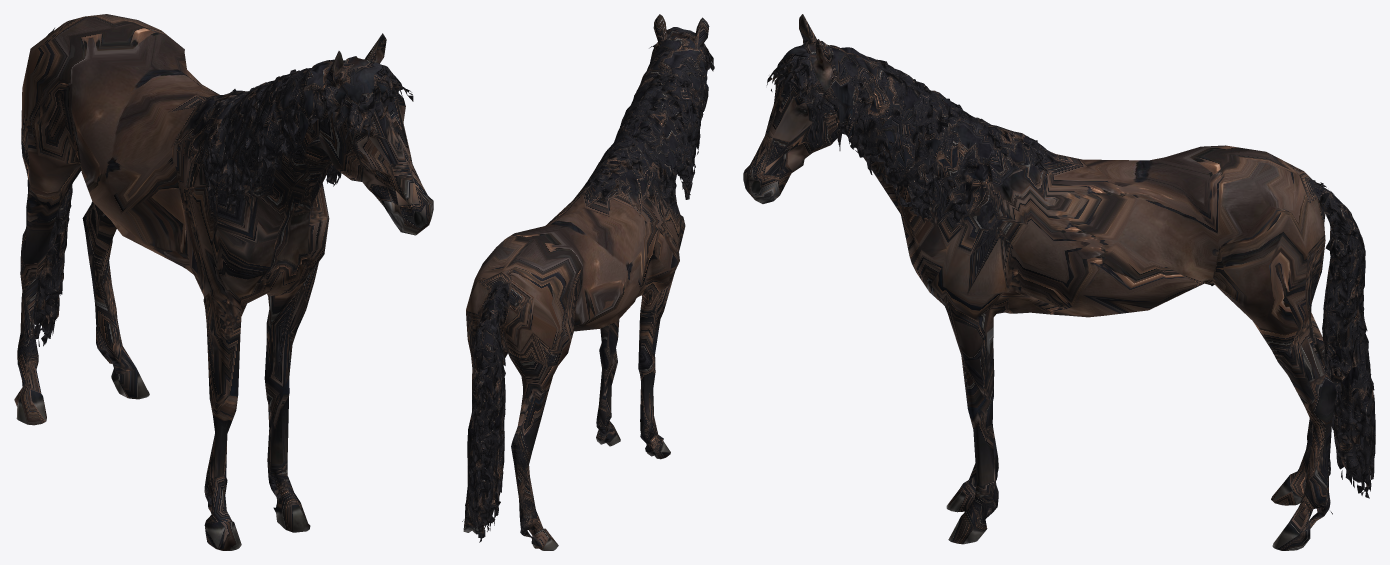
The model's file is riding-horse.glb.
The picture shows the model from 3 angles, left to right: view 1: azimuth 30°, elevation 25°; view 2: azimuth 150°, elevation 25°; view 3: azimuth 270°, elevation 25°; orthographic projection. The views are drawn at different scales.
Size of the model in its own units: 0.5062 by 1.76 by 2.
1 material, 1 textured.
